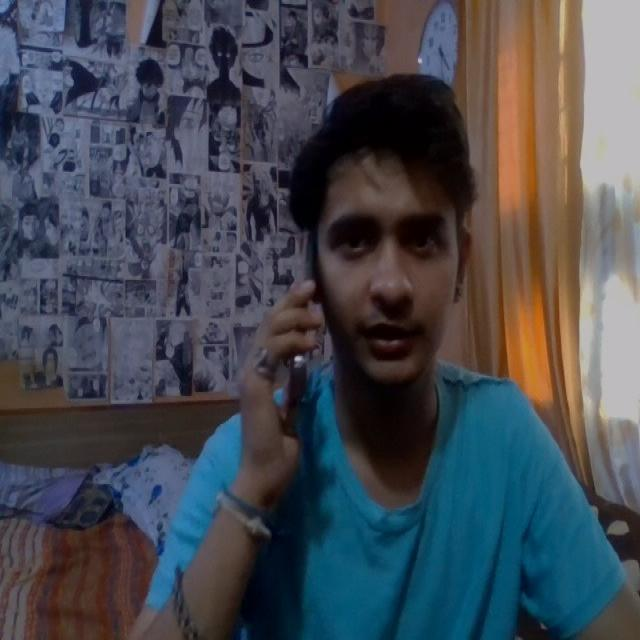oncall: (226, 59, 523, 482)
phone: (279, 226, 321, 428)
